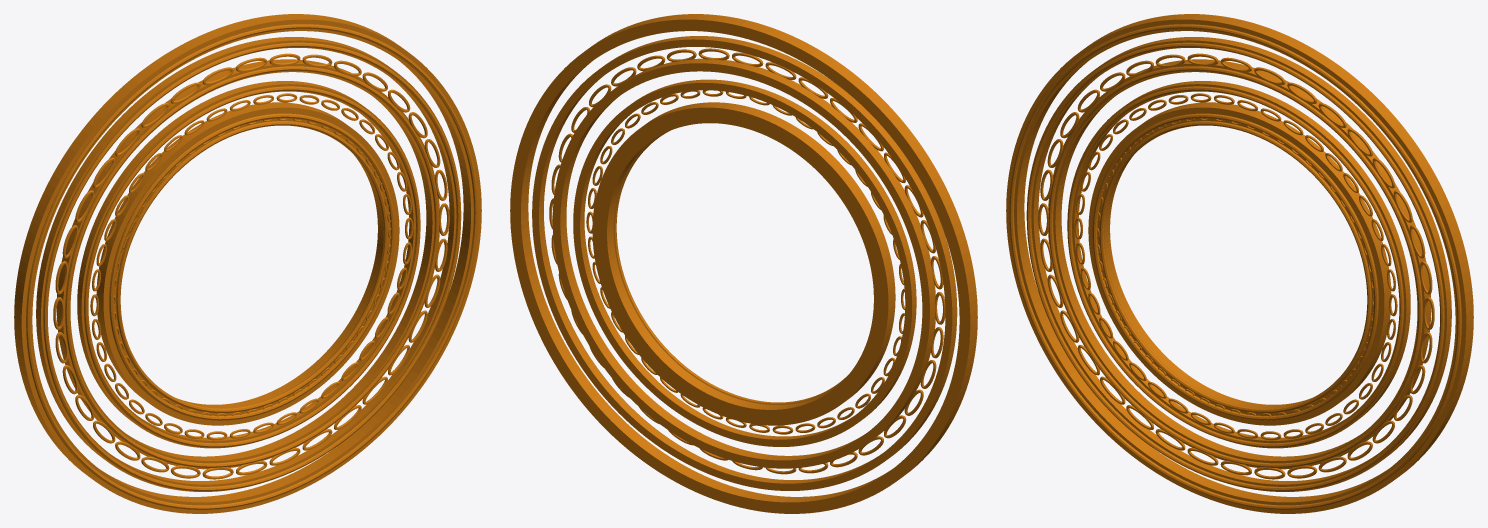
File: reference_style_bearing.obj
The picture shows the model from 3 angles, left to right: view 1: azimuth 30°, elevation 25°; view 2: azimuth 150°, elevation 25°; view 3: azimuth 330°, elevation 25°; orthographic projection.
Visible parts, largest first — view 1: ReferenceStyleBearing; view 2: ReferenceStyleBearing; view 3: ReferenceStyleBearing.
Part boxes in pixels (<box>): ReferenceStyleBearing: <box>14,14,481,513</box>; ReferenceStyleBearing: <box>510,14,977,513</box>; ReferenceStyleBearing: <box>1006,14,1473,513</box>.
Bounding box in the file's own units: 12 × 12 × 0.415.
